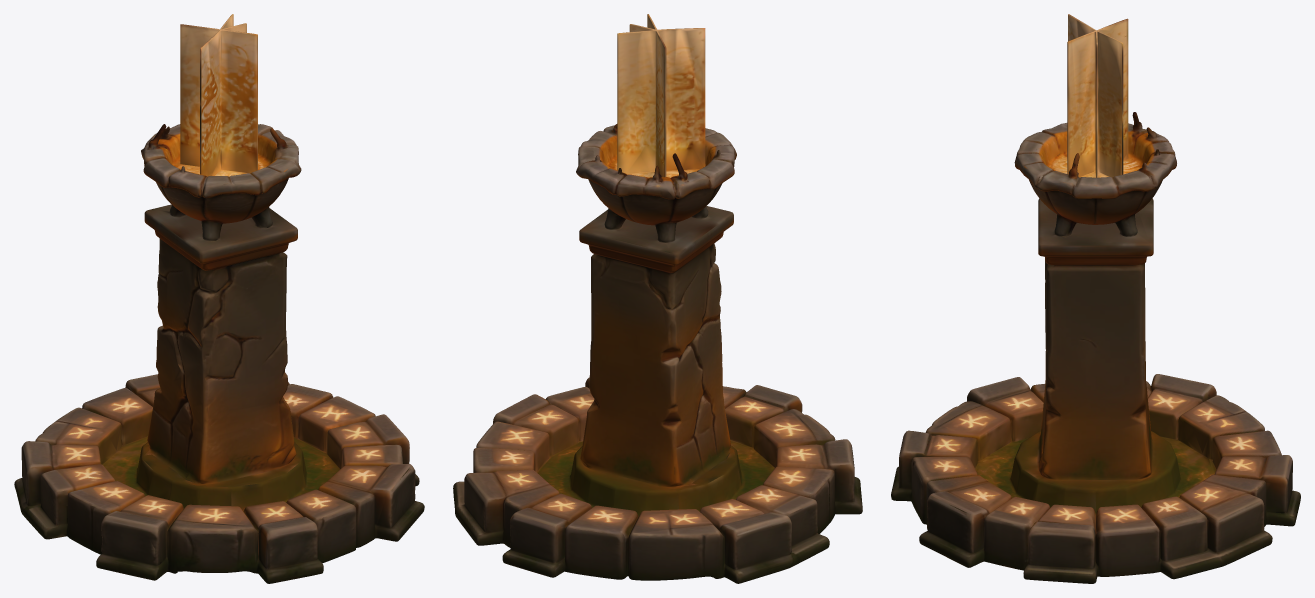
File: relic_optimized.glb
The picture shows the model from 3 angles, left to right: view 1: azimuth 30°, elevation 25°; view 2: azimuth 150°, elevation 25°; view 3: azimuth 270°, elevation 25°; orthographic projection.
Parts seen in each view (by area): view 1: material; view 2: material; view 3: material.
Boxes of the visible parts, <box> form: material: <box>14,14,424,583</box>; material: <box>453,14,862,583</box>; material: <box>891,14,1300,583</box>.
Size of the model in its own units: 0.7254 by 0.9389 by 0.7424.
1 material, 1 textured.
